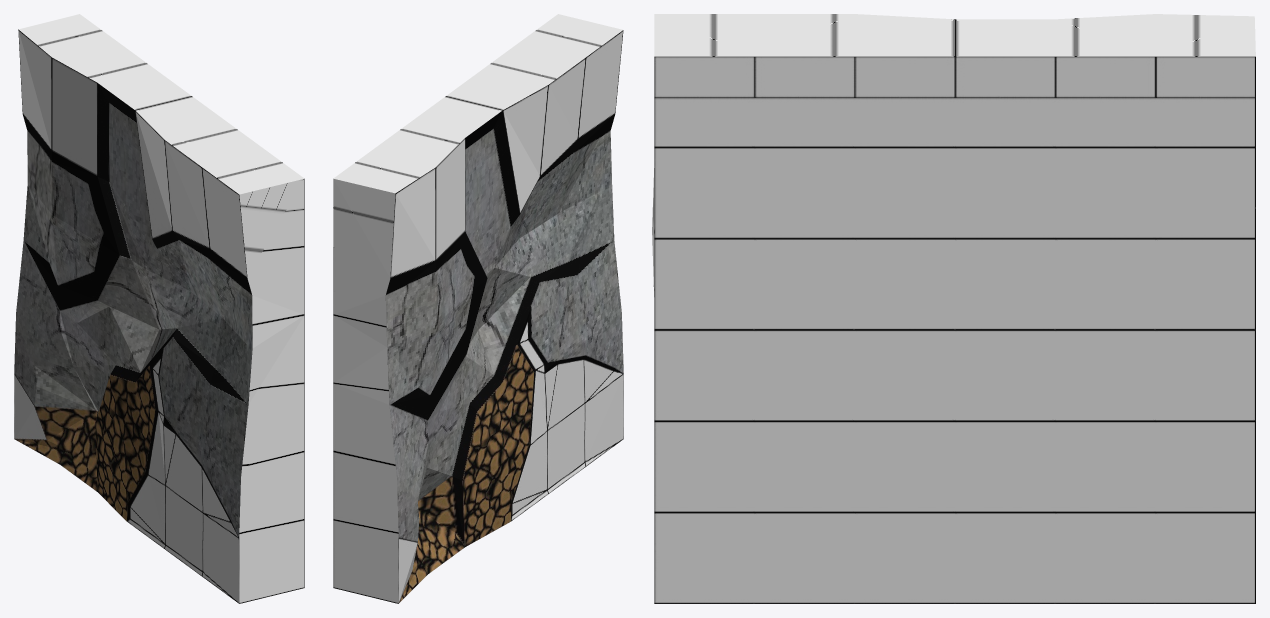
Rendered from EspacioPirateriaParedInteriorAltoNI.gltf.
3 views of the same model, side by side, from view 1: azimuth 30°, elevation 25°; view 2: azimuth 150°, elevation 25°; view 3: azimuth 270°, elevation 25° (orthographic). The views are drawn at different scales.
Visible parts, largest first — view 1: Cubo.33; view 2: Cubo.33; view 3: Cubo.33.
Boxes of the visible parts, box(x1,y1,x2,y2) form: Cubo.33: box(14, 14, 304, 603); Cubo.33: box(333, 14, 623, 603); Cubo.33: box(652, 14, 1255, 603).
Size of the model in its own units: 0.3354 by 2 by 2.
Materials: 1 (1 with a texture image).
